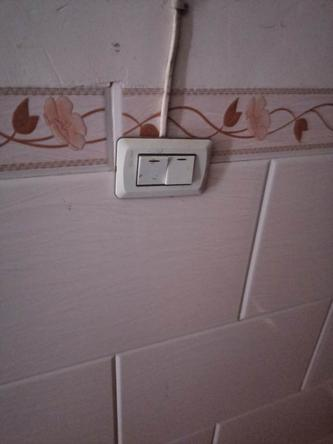switch: (164, 151, 200, 187), (135, 151, 169, 189)
